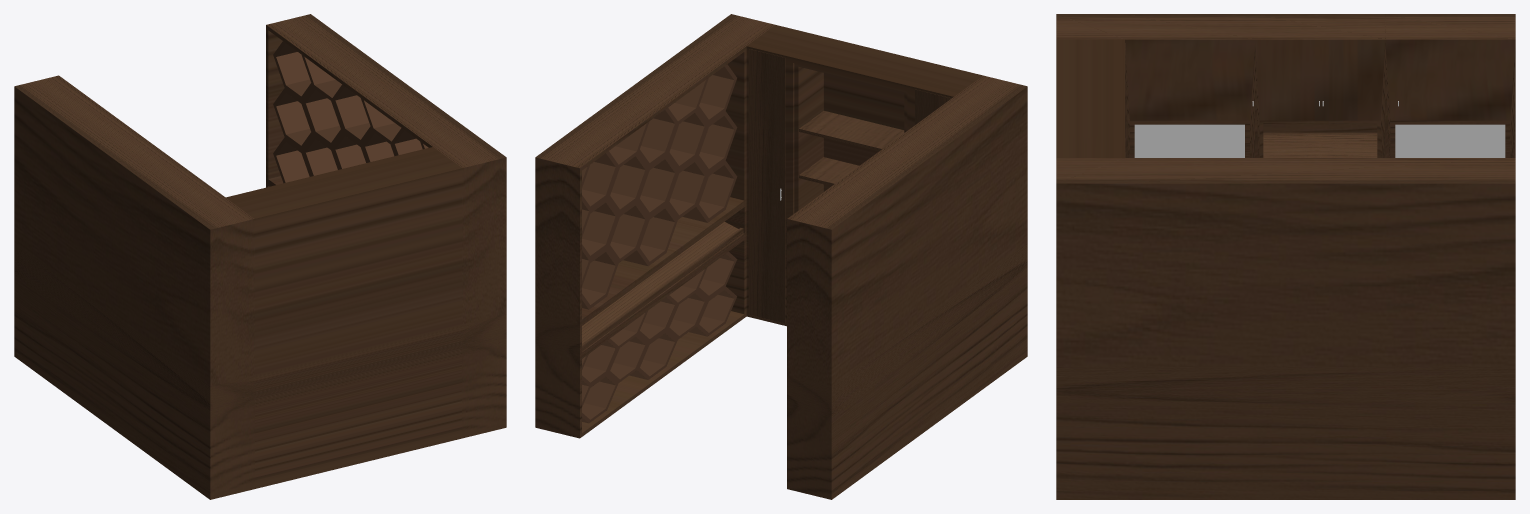
File: L2_B1_WineCabinet.fbx
3 renders of one model, left to right at view 1: azimuth 30°, elevation 25°; view 2: azimuth 150°, elevation 25°; view 3: azimuth 270°, elevation 25°, orthographic. The views are drawn at different scales.
Visible parts, largest first — view 1: L2_B1_WineCabinet; view 2: L2_B1_WineCabinet, L2_B1_WineCabinetDoor1, L2_B1_WineCabinetDoor2; view 3: L2_B1_WineCabinet, L2_B1_WineCabinetDoor4, L2_B1_WineCabinetDoor3.
Part boxes in pixels (bbox=[...]): L2_B1_WineCabinet: bbox=[14, 14, 506, 499]; L2_B1_WineCabinet: bbox=[535, 14, 1027, 499]; L2_B1_WineCabinetDoor1: bbox=[748, 49, 785, 323]; L2_B1_WineCabinetDoor2: bbox=[915, 89, 951, 124]; L2_B1_WineCabinet: bbox=[1056, 14, 1515, 499]; L2_B1_WineCabinetDoor4: bbox=[1390, 120, 1510, 157]; L2_B1_WineCabinetDoor3: bbox=[1130, 120, 1249, 157].
Bounding box in the file's own units: 4.01 × 3.5 × 4.59.
5 materials, 1 textured.
